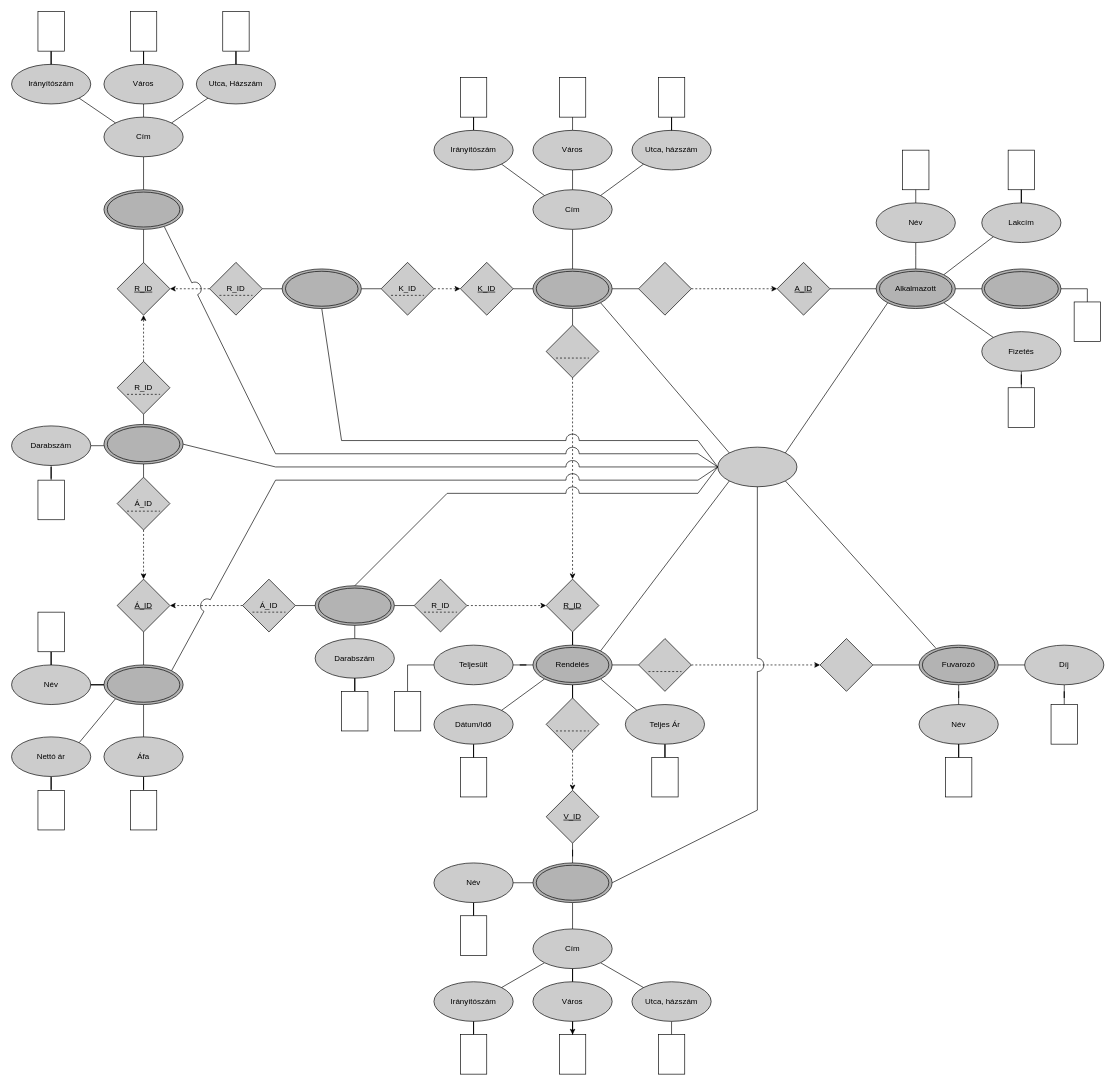
Image size: 1115x1086. Some labels were removed from this diagram. The shapes that lost their labels are listed below. From the top down, each one's box as (x1, y1, x2, y2) in pixels, then its label:
(103, 189, 183, 229): Raktár
(281, 268, 361, 309): Beszállító
(532, 268, 612, 309): Kereskedés
(638, 262, 691, 315): Dolgozó
(981, 268, 1061, 309): Telefonszám
(545, 324, 599, 378): K-R
(103, 424, 183, 464): Leltár
(717, 446, 797, 487): Üzletek
(314, 585, 394, 625): Á-R
(103, 664, 183, 705): Áru
(638, 638, 691, 691): R-F
(819, 638, 873, 691): F_ID
(545, 697, 599, 751): R-V
(532, 862, 612, 903): Vásárló
